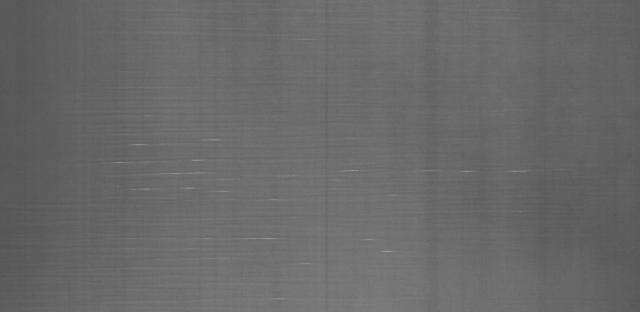waist_folding: (92, 15, 509, 291)
